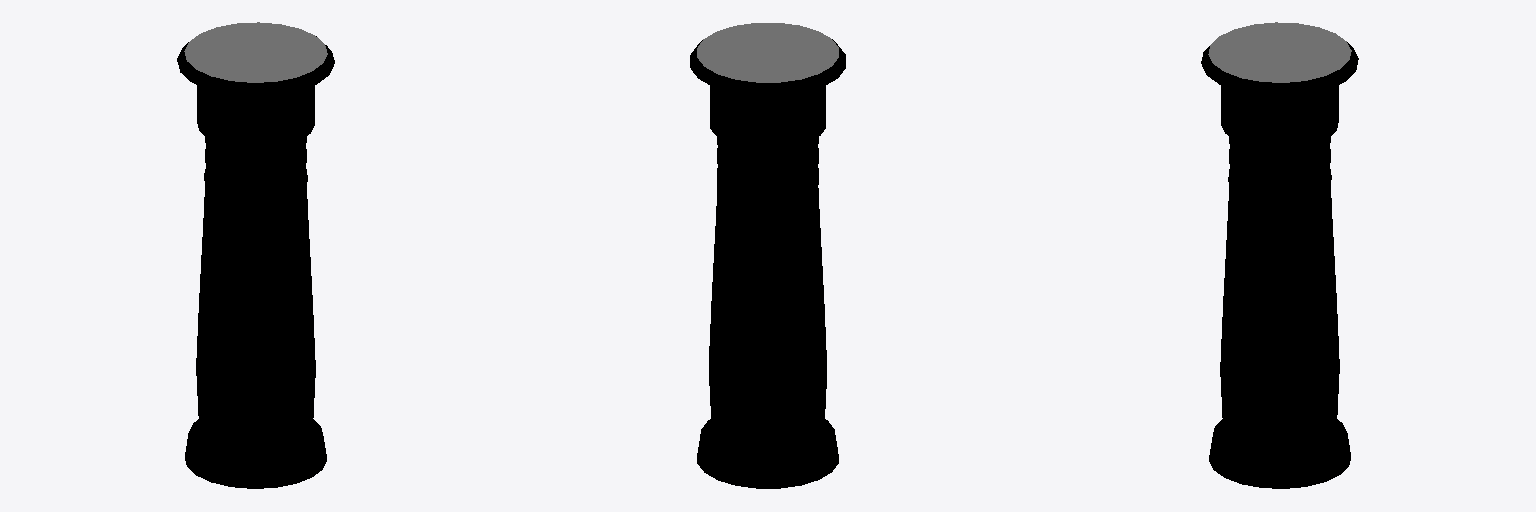
File: Egypt_Column.obj
3 renders of one model, left to right at view 1: azimuth 30°, elevation 25°; view 2: azimuth 150°, elevation 25°; view 3: azimuth 270°, elevation 25°, orthographic.
Visible parts, largest first — view 1: Column; view 2: Column; view 3: Column.
Boxes of the visible parts, box(x1,y1,x2,y2) form: Column: box(177, 22, 334, 488); Column: box(690, 23, 845, 488); Column: box(1201, 22, 1358, 488).
Bounding box in the file's own units: 2.09 × 5.96 × 2.09.